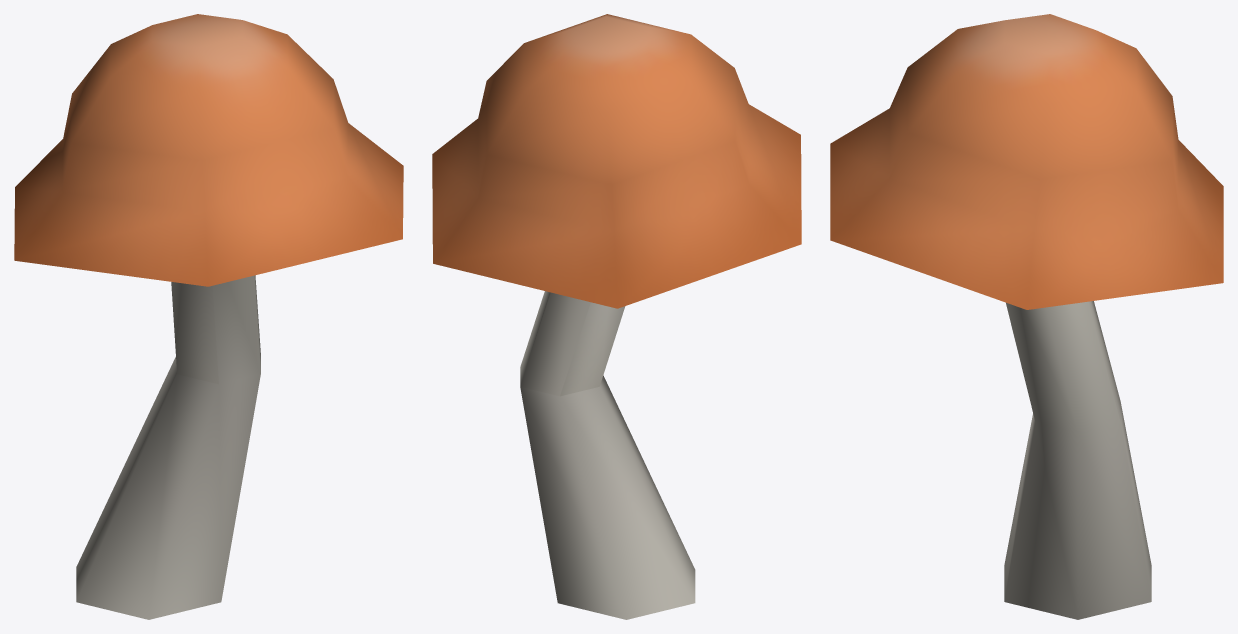
File: Mushroom_3.fbx
The picture shows the model from 3 angles, left to right: view 1: azimuth 30°, elevation 25°; view 2: azimuth 150°, elevation 25°; view 3: azimuth 270°, elevation 25°; orthographic projection. The views are drawn at different scales.
Visible parts, largest first — view 1: Mushroom_1; view 2: Mushroom_1; view 3: Mushroom_1.
Boxes of the visible parts, bbox=[...] form: Mushroom_1: bbox=[14, 14, 403, 619]; Mushroom_1: bbox=[432, 14, 801, 619]; Mushroom_1: bbox=[830, 14, 1223, 619].
Size of the model in its own units: 0.2824 by 0.4512 by 0.3284.
